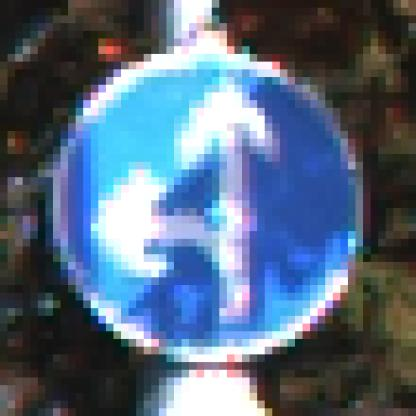Straight or Left: (39, 40, 379, 379)
